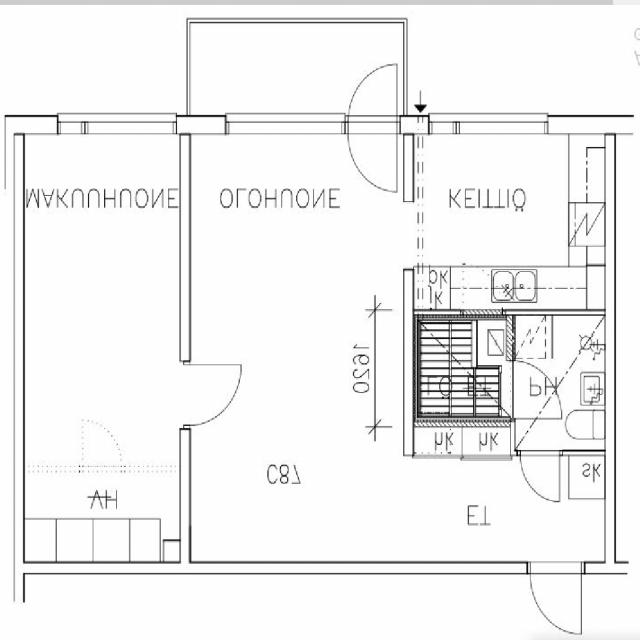door: (348, 115, 398, 192), (348, 57, 398, 134), (531, 562, 582, 634), (184, 364, 241, 426), (510, 361, 562, 416), (520, 451, 560, 503)
